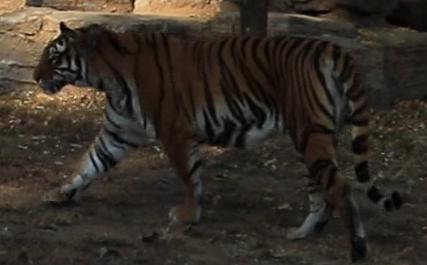tiger: (34, 22, 368, 258)
